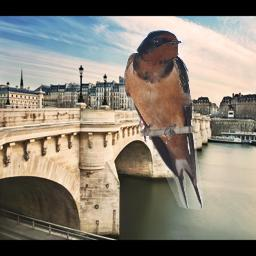Swallow: (123, 29, 203, 210)
